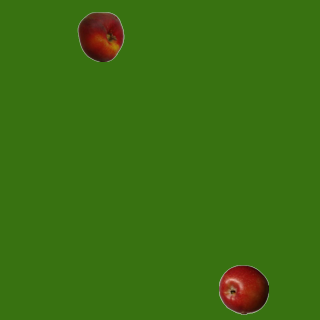Apple Braeburn: (218, 264, 268, 314)
Nectarine Flat: (75, 11, 125, 61)
